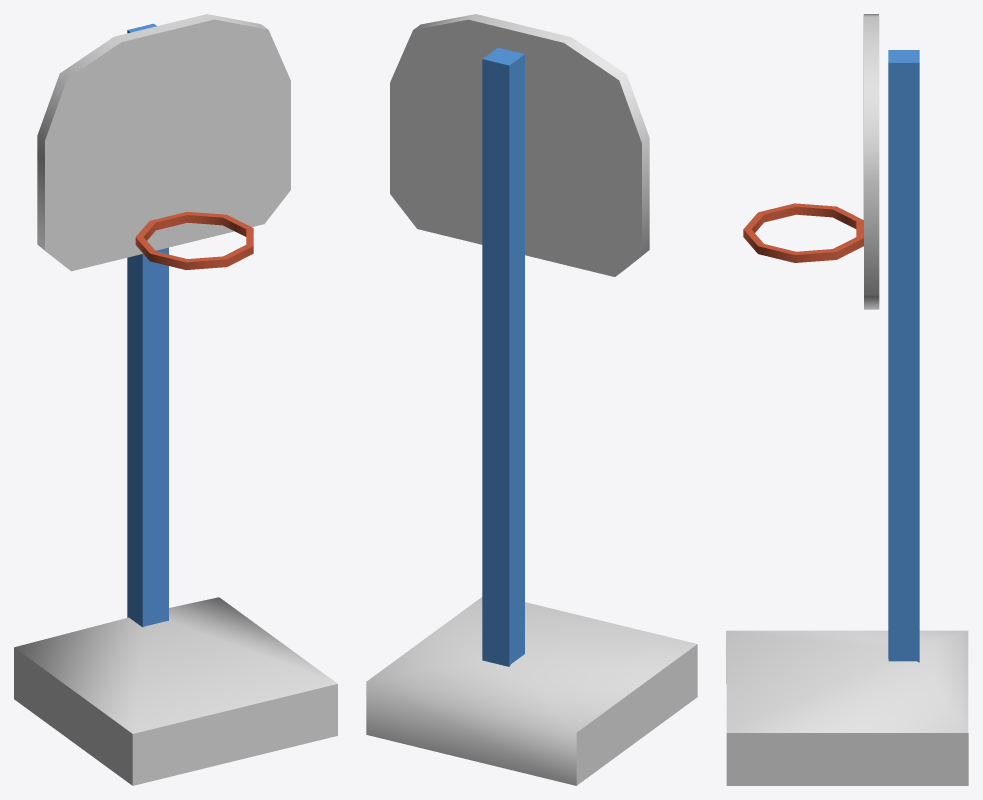
The picture shows the model from 3 angles, left to right: view 1: azimuth 30°, elevation 25°; view 2: azimuth 150°, elevation 25°; view 3: azimuth 270°, elevation 25°; orthographic projection. The views are drawn at different scales.
Parts seen in each view (by area): view 1: toy_010; view 2: toy_010; view 3: toy_010.
Boxes of the visible parts, left/top/right/bottom form: toy_010: left=14, top=14, right=337, bottom=785; toy_010: left=366, top=14, right=697, bottom=785; toy_010: left=726, top=14, right=968, bottom=785.
Size of the model in its own units: 0.6711 by 1.77 by 0.5597.
